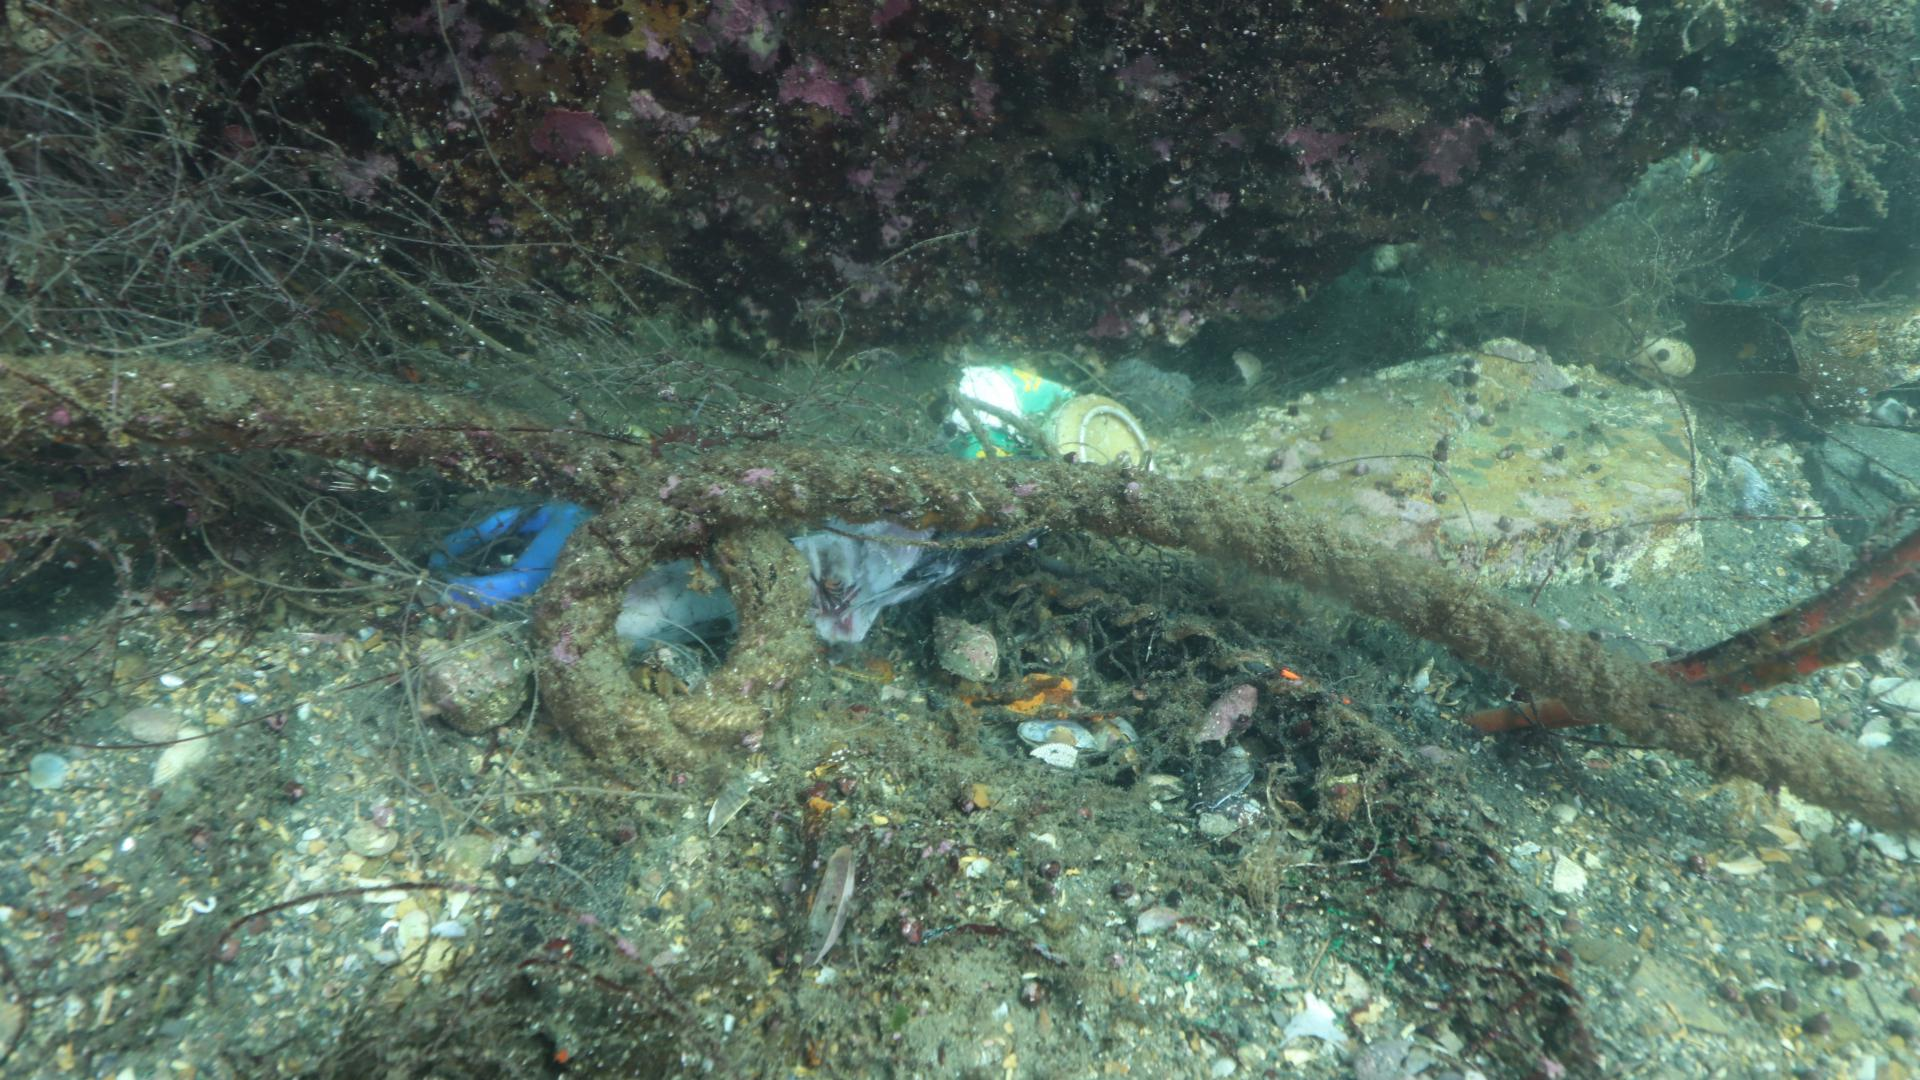rope: (0, 349, 1920, 839)
